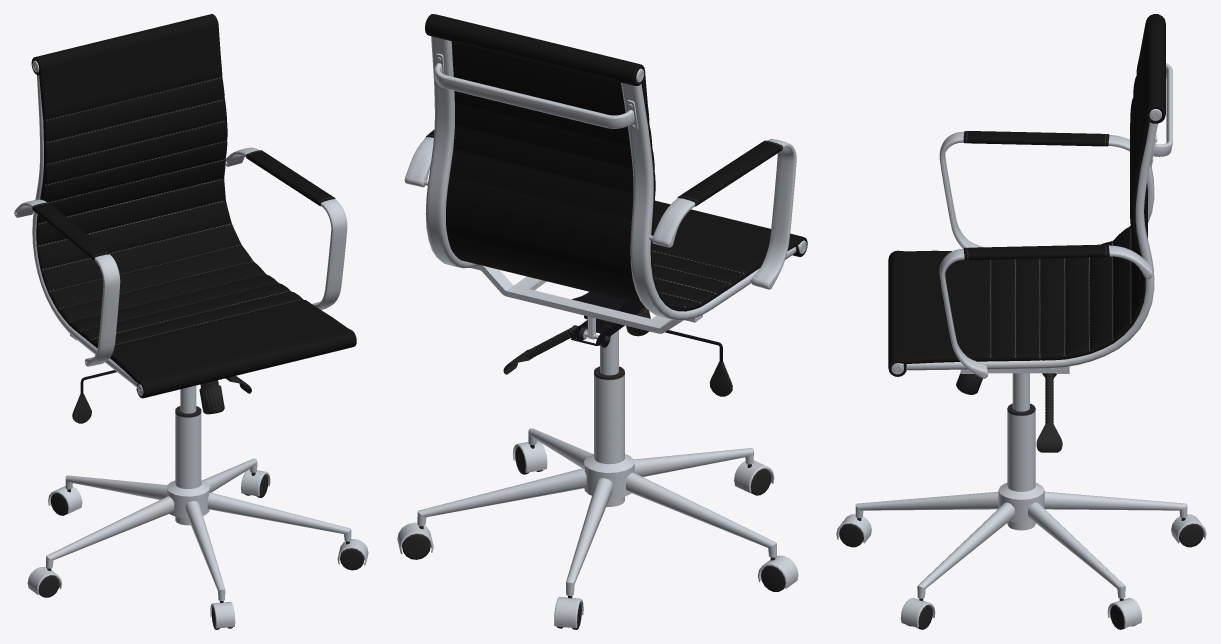
The model's file is chair.glb.
3 views of the same model, side by side, from view 1: azimuth 30°, elevation 25°; view 2: azimuth 150°, elevation 25°; view 3: azimuth 270°, elevation 25° (orthographic). The views are drawn at different scales.
Visible parts, largest first — view 1: office_chair; view 2: office_chair; view 3: office_chair.
Boxes of the visible parts, x1,y1,x2,y2 form: office_chair: (14,14,368,629); office_chair: (397,14,807,629); office_chair: (836,14,1206,629).
Bounding box in the file's own units: 0.6662 × 1.06 × 0.7004.
1 material, 1 textured.
